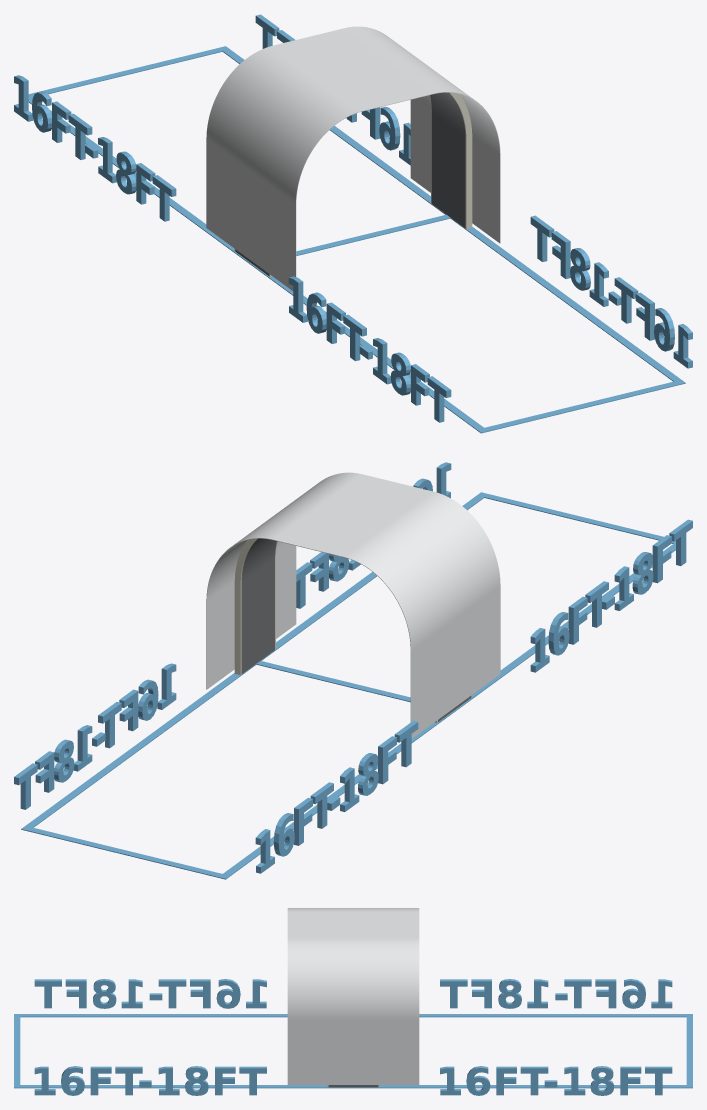
The model's file is colibri-cover.glb.
3 views of the same model, one above another, from view 1: azimuth 30°, elevation 25°; view 2: azimuth 150°, elevation 25°; view 3: azimuth 270°, elevation 25° (orthographic). The views are drawn at different scales.
Parts seen in each view (by area): view 1: sun_cover, label_near_end, label_far_end_other_side, label_near_end_other_side, arch_shell, lane_right, label_far_end, lane_left, lane_near_end, arch_trim_front, lane_far_end, lane_mid; view 2: sun_cover, label_near_end_other_side, label_far_end_other_side, label_far_end, arch_shell, lane_right, label_near_end, lane_left, arch_trim_back, lane_far_end, lane_near_end, lane_mid; view 3: sun_cover, label_near_end_other_side, label_far_end_other_side, label_far_end, label_near_end, lane_left, lane_right, lane_near_end, lane_far_end.
Part boxes in pixels (<box>): sun_cover: <box>206,26,500,290</box>; label_near_end: <box>530,215,692,368</box>; label_far_end_other_side: <box>14,75,176,221</box>; label_near_end_other_side: <box>288,276,451,422</box>; arch_shell: <box>235,92,465,275</box>; lane_right: <box>219,46,685,385</box>; label_far_end: <box>255,14,410,165</box>; lane_left: <box>28,95,488,433</box>; lane_near_end: <box>477,379,685,433</box>; arch_trim_front: <box>269,92,472,276</box>; lane_far_end: <box>29,46,227,97</box>; lane_mid: <box>249,214,450,266</box>; sun_cover: <box>206,472,500,738</box>; label_near_end_other_side: <box>530,519,692,672</box>; label_far_end_other_side: <box>255,720,418,873</box>; label_far_end: <box>14,663,176,809</box>; arch_shell: <box>241,538,471,721</box>; lane_right: <box>21,492,487,831</box>; label_near_end: <box>296,462,451,608</box>; lane_left: <box>218,542,675,879</box>; arch_trim_back: <box>234,538,437,722</box>; lane_far_end: <box>25,827,229,879</box>; lane_near_end: <box>477,492,675,543</box>; lane_mid: <box>256,661,457,712</box>; sun_cover: <box>287,908,419,1084</box>; label_near_end_other_side: <box>34,979,266,1008</box>; label_far_end_other_side: <box>440,979,672,1008</box>; label_far_end: <box>440,1066,672,1095</box>; label_near_end: <box>34,1066,266,1095</box>; lane_left: <box>14,1014,692,1017</box>; lane_right: <box>14,1085,692,1088</box>; lane_near_end: <box>14,1014,20,1088</box>; lane_far_end: <box>686,1014,692,1087</box>.
Bounding box in the file's own units: 3.98 × 2.63 × 12.86.
